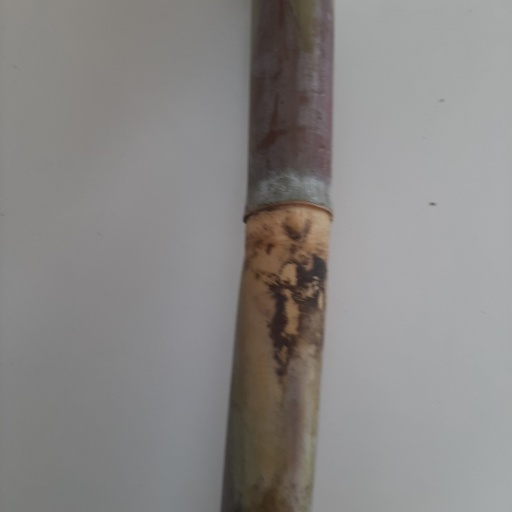Bud: (284, 208, 313, 245)
